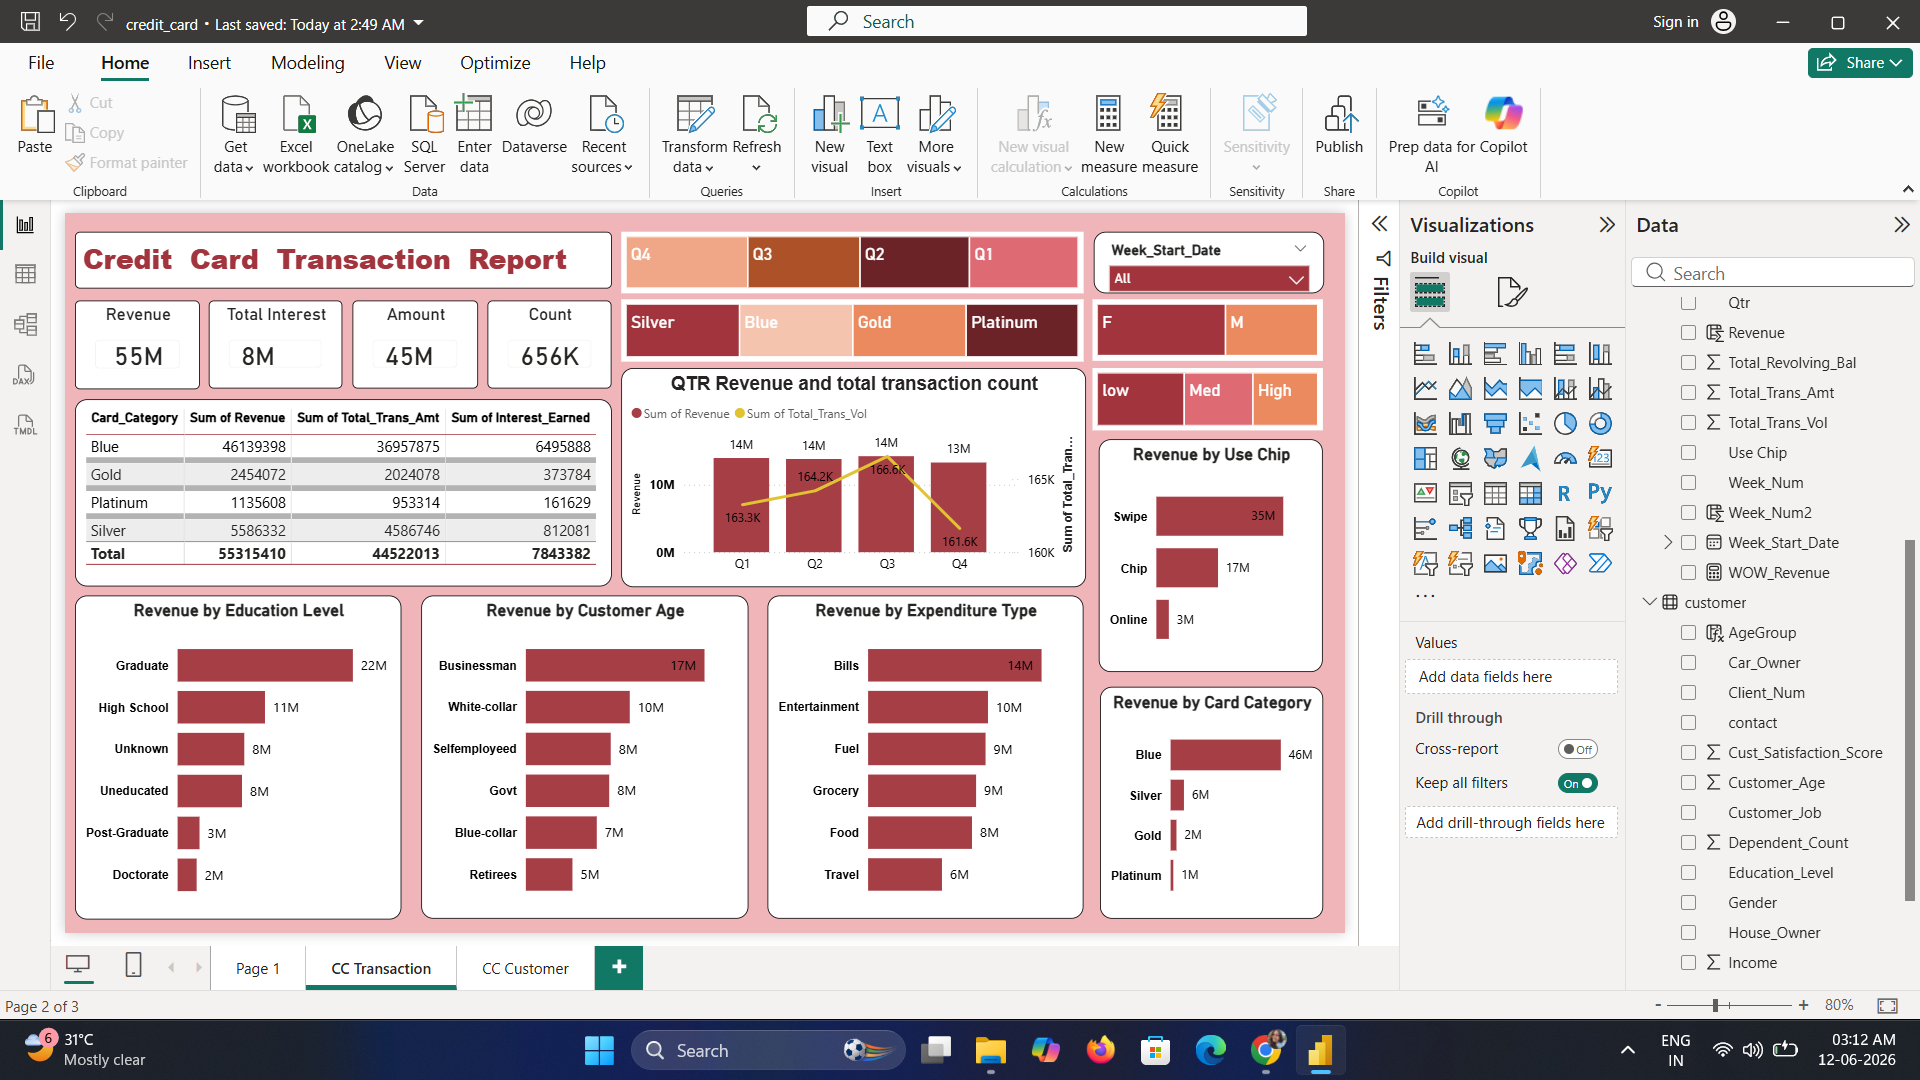

The dashboard page shown, as its layout file describes it:
{"tool":"powerbi","page":{"name":"CC Transaction","canvas":[1280,720],"ordinal":1},"visuals":[{"type":"textbox","box":[9.7,19.3,536.9,56.7],"z":0},{"type":"lineClusteredColumnComboChart","title":"QTR Revenue and total transaction count","fields":{"Category":["credit_card.Qtr"],"Y":["Sum(credit_card.Revenue)"],"Y2":["Sum(credit_card.Total_Trans_Vol)"]},"box":[556.2,154.4,464.5,219.6],"z":1000},{"type":"barChart","title":"Revenue by Customer Age","fields":{"Y":["Sum(credit_card.Revenue)"],"Category":["customer.Customer_Job"]},"box":[355.9,382.4,326.9,323.3],"z":2000},{"type":"barChart","title":"Revenue by Card Category","fields":{"Y":["Sum(credit_card.Revenue)"],"Category":["credit_card.Card_Category"]},"box":[1035.1,474.1,223.2,231.6],"z":3000},{"type":"barChart","title":"Revenue by Use Chip","fields":{"Y":["Sum(credit_card.Revenue)"],"Category":["credit_card.Use Chip"]},"box":[1033.9,226.8,224.4,232.8],"z":4000},{"type":"tableEx","fields":{"Values":["credit_card.Card_Category","Sum(credit_card.Revenue)","Sum(credit_card.Total_Trans_Amt)","Sum(credit_card.Interest_Earned)"]},"box":[9.7,185.8,536.9,187],"z":5000},{"type":"barChart","title":"Revenue by Expenditure Type","fields":{"Y":["Sum(credit_card.Revenue)"],"Category":["credit_card.Exp Type"]},"box":[702.1,382.4,316.1,323.3],"z":6000},{"type":"cardVisual","title":"Revenue","fields":{"Data":["Sum(credit_card.Revenue)"]},"box":[10,87.5,125,88.8],"z":7000},{"type":"cardVisual","title":"Total Interest","fields":{"Data":["Sum(credit_card.Interest_Earned)"]},"box":[143.6,88.1,133.9,88.1],"z":8000},{"type":"cardVisual","title":"Amount","fields":{"Data":["Sum(credit_card.Total_Trans_Amt)"]},"box":[287.1,88.1,125.5,88.1],"z":9000},{"type":"cardVisual","title":"Count","fields":{"Data":["Sum(credit_card.Total_Trans_Vol)"]},"box":[422.3,88.1,124.3,88.1],"z":10000},{"type":"slicer","fields":{"Values":["credit_card.Week_Start_Date"]},"box":[1029.1,19.3,230.4,61.5],"z":11000},{"type":"treemap","fields":{"Group":["credit_card.Qtr"],"Values":["Avg(credit_card.Client_Num)"]},"box":[556.2,19.3,462.1,61.5],"z":12000},{"type":"treemap","fields":{"Group":["customer.Gender"],"Values":["CountNonNull(credit_card.Client_Num)"]},"box":[1027.9,86.9,230.4,61.5],"z":13000},{"type":"treemap","fields":{"Group":["customer.IncomeGroup"],"Values":["CountNonNull(credit_card.Client_Num)"]},"box":[1027.9,154.4,230.4,62.7],"z":14000},{"type":"barChart","title":"Revenue by Education Level","fields":{"Category":["customer.Education_Level"],"Y":["Sum(credit_card.Revenue)"]},"box":[10,382.5,326.2,323.8],"z":15000},{"type":"treemap","fields":{"Group":["credit_card.Card_Category"],"Values":["Avg(credit_card.Client_Num)"]},"box":[556.2,85.7,462.1,62.7],"z":16000}]}

Visuals, with their boxes on the page's 1280x720 design canvas (x1, y1, x2, y2). These are canvas units, not pixel positions in the 1920x1080 screenshot, which may show the page scaled, cropped or inside an application window:
textbox: bbox(10, 19, 547, 76)
"QTR Revenue and total transaction count" lineClusteredColumnComboChart: bbox(556, 154, 1021, 374)
"Revenue by Customer Age" barChart: bbox(356, 382, 683, 706)
"Revenue by Card Category" barChart: bbox(1035, 474, 1258, 706)
"Revenue by Use Chip" barChart: bbox(1034, 227, 1258, 460)
tableEx - credit_card.Card_Category x Sum(credit_card.Revenue): bbox(10, 186, 547, 373)
"Revenue by Expenditure Type" barChart: bbox(702, 382, 1018, 706)
"Revenue" cardVisual: bbox(10, 88, 135, 176)
"Total Interest" cardVisual: bbox(144, 88, 278, 176)
"Amount" cardVisual: bbox(287, 88, 413, 176)
"Count" cardVisual: bbox(422, 88, 547, 176)
slicer - credit_card.Week_Start_Date: bbox(1029, 19, 1260, 81)
treemap - credit_card.Qtr x Avg(credit_card.Client_Num): bbox(556, 19, 1018, 81)
treemap - customer.Gender x CountNonNull(credit_card.Client_Num): bbox(1028, 87, 1258, 148)
treemap - customer.IncomeGroup x CountNonNull(credit_card.Client_Num): bbox(1028, 154, 1258, 217)
"Revenue by Education Level" barChart: bbox(10, 382, 336, 706)
treemap - credit_card.Card_Category x Avg(credit_card.Client_Num): bbox(556, 86, 1018, 148)
